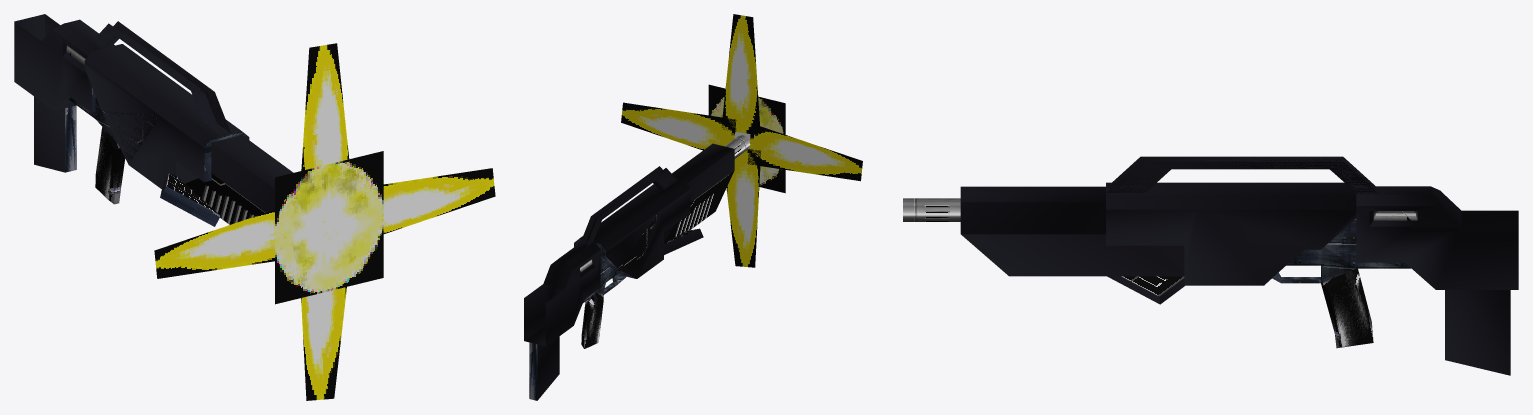
File: Gun0010.obj
3 views of the same model, side by side, from view 1: azimuth 30°, elevation 25°; view 2: azimuth 150°, elevation 25°; view 3: azimuth 270°, elevation 25° (orthographic). The views are drawn at different scales.
Visible parts, largest first — view 1: Room2E_primary, Room2D, Room2C_primary, Room2A_primary, Room32_primary; view 2: Room2E_primary, Room2D, Room2C_primary, Room2A_primary, Room32_primary; view 3: Room2E_primary, Room2A_primary, Room32_primary.
Part boxes in pixels (left/top/right/bottom): Room2E_primary: left=14, top=14, right=293, bottom=224; Room2D: left=154, top=43, right=495, bottom=400; Room2C_primary: left=275, top=151, right=383, bottom=304; Room2A_primary: left=34, top=96, right=76, bottom=172; Room32_primary: left=160, top=173, right=219, bottom=226; Room2E_primary: left=524, top=135, right=750, bottom=348; Room2D: left=621, top=14, right=862, bottom=267; Room2C_primary: left=708, top=84, right=785, bottom=193; Room2A_primary: left=529, top=336, right=559, bottom=400; Room32_primary: left=661, top=228, right=703, bottom=256; Room2E_primary: left=903, top=156, right=1518, bottom=348; Room2A_primary: left=1445, top=290, right=1510, bottom=375; Room32_primary: left=1107, top=276, right=1184, bottom=304.
Size of the model in its own units: 478 by 478 by 726.
116 materials, 116 textured.
